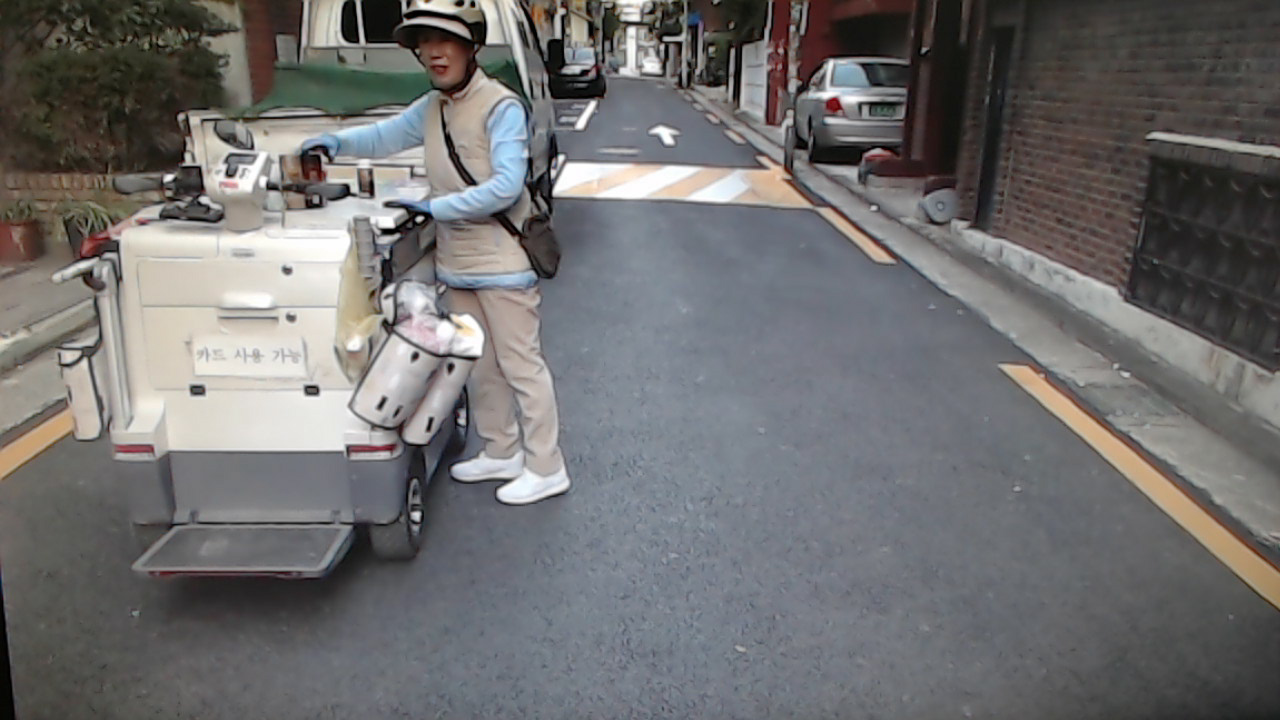Yakurut: (294, 5, 587, 517)
